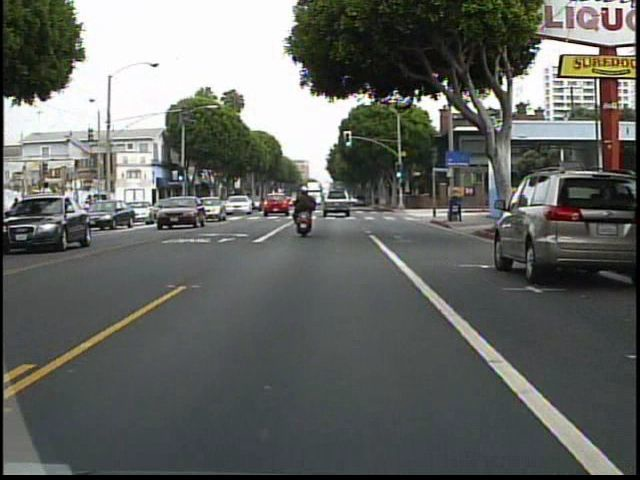person: (290, 182, 322, 235)
